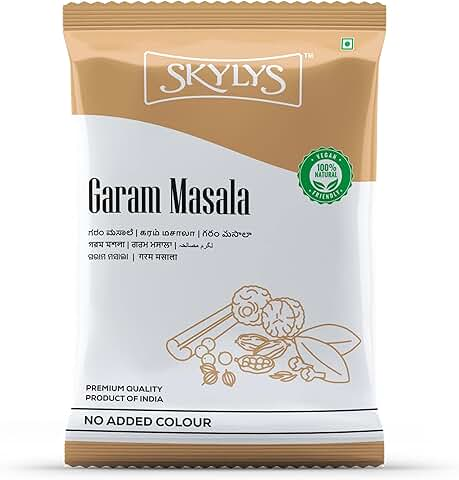Garamasala: (60, 1, 387, 475)
